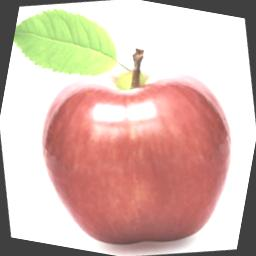Apple Ripe: (22, 40, 256, 256)
